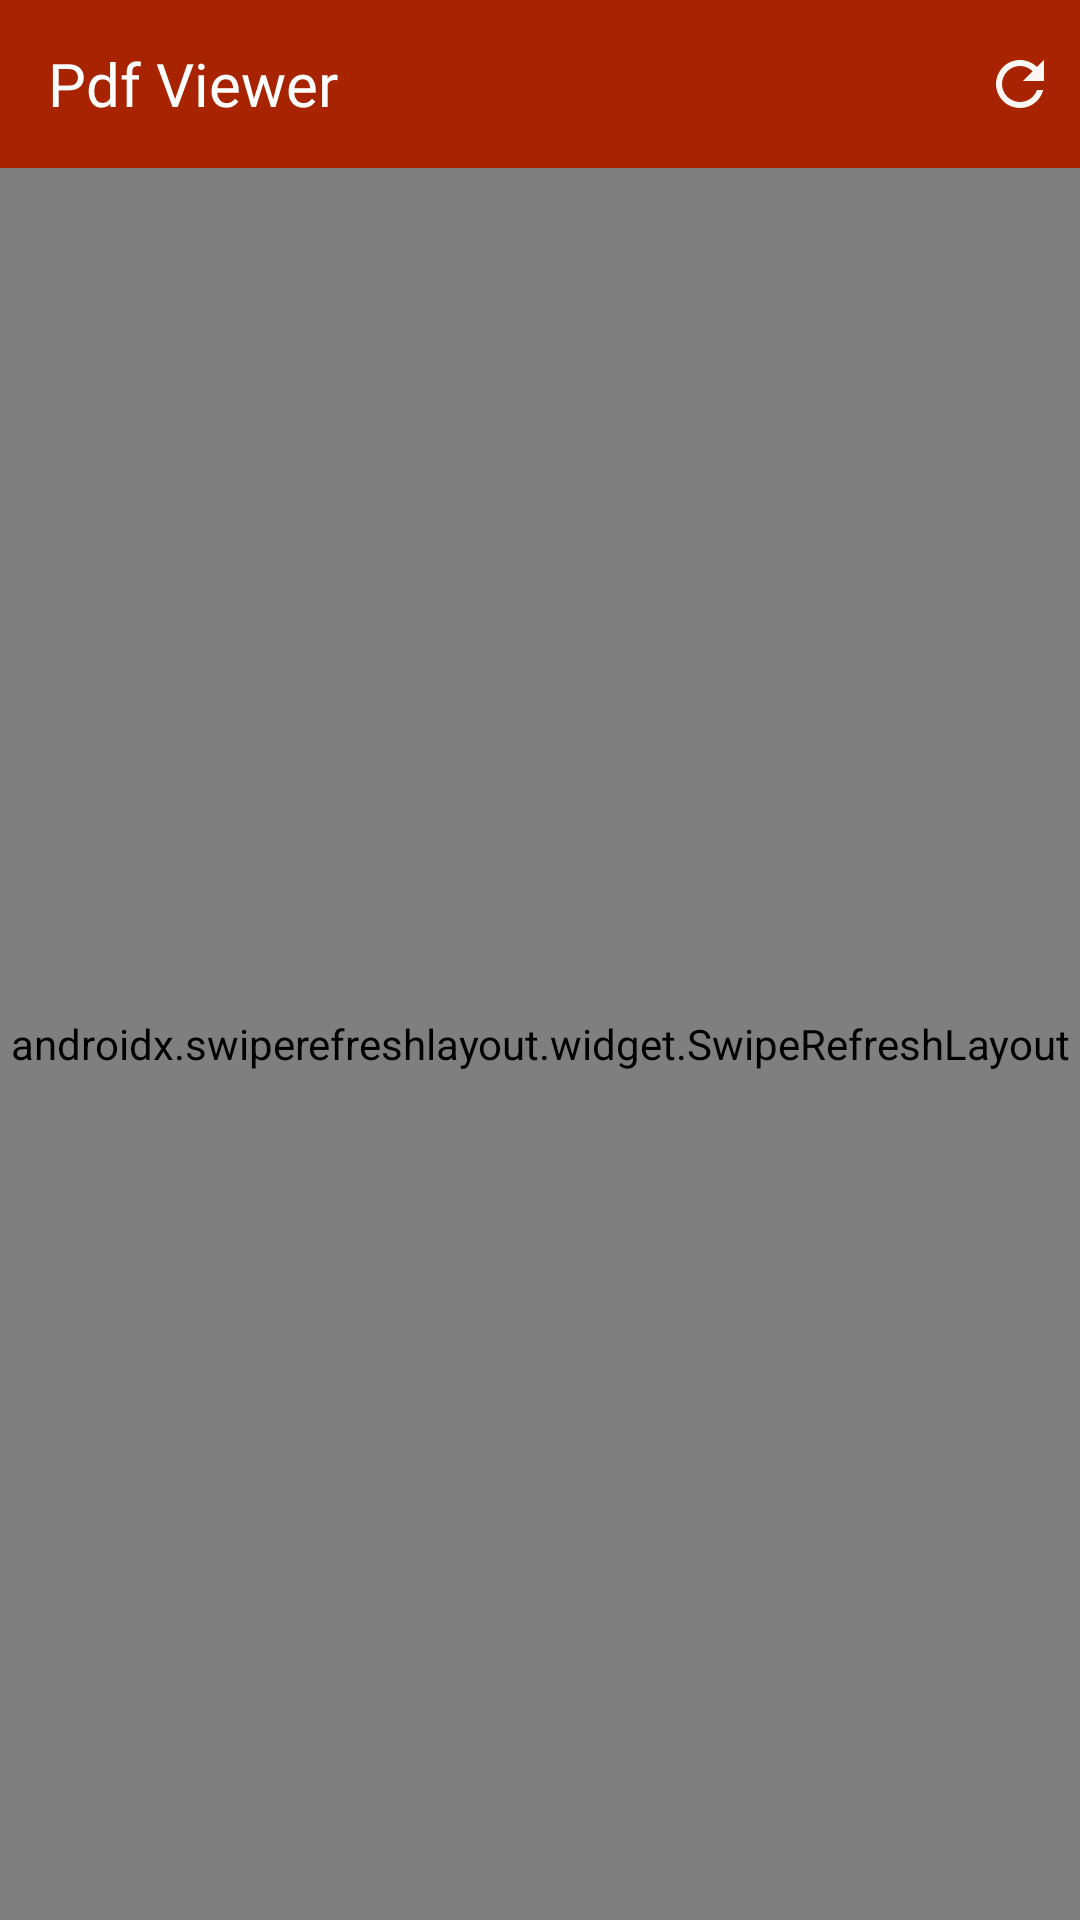

Screen size 1080×1920. Icon name, then its box in pixels as (x1, y1, x2, y2):
refresh arrow: (996, 60, 1044, 108)
